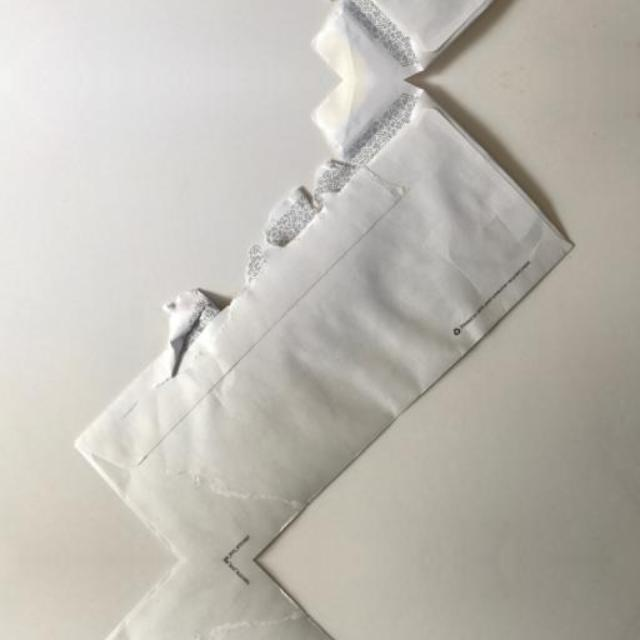paper: (68, 80, 590, 558), (68, 0, 590, 80), (68, 561, 590, 640)
